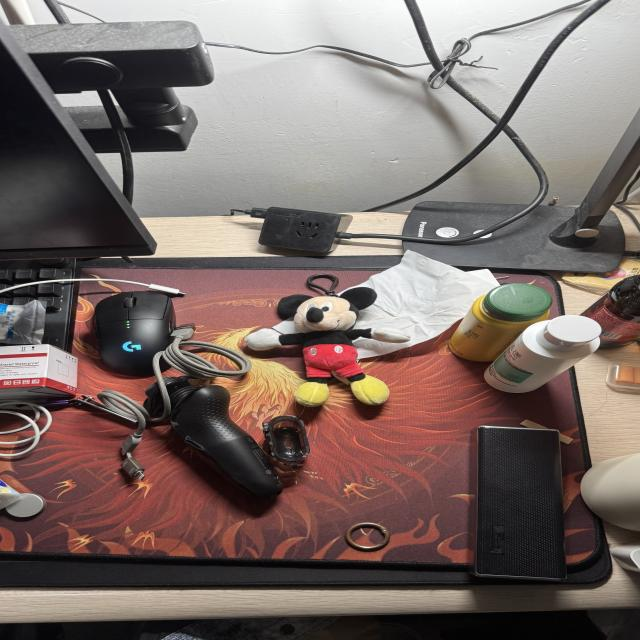mickey: (246, 275, 409, 406)
tissue: (354, 251, 498, 358)
